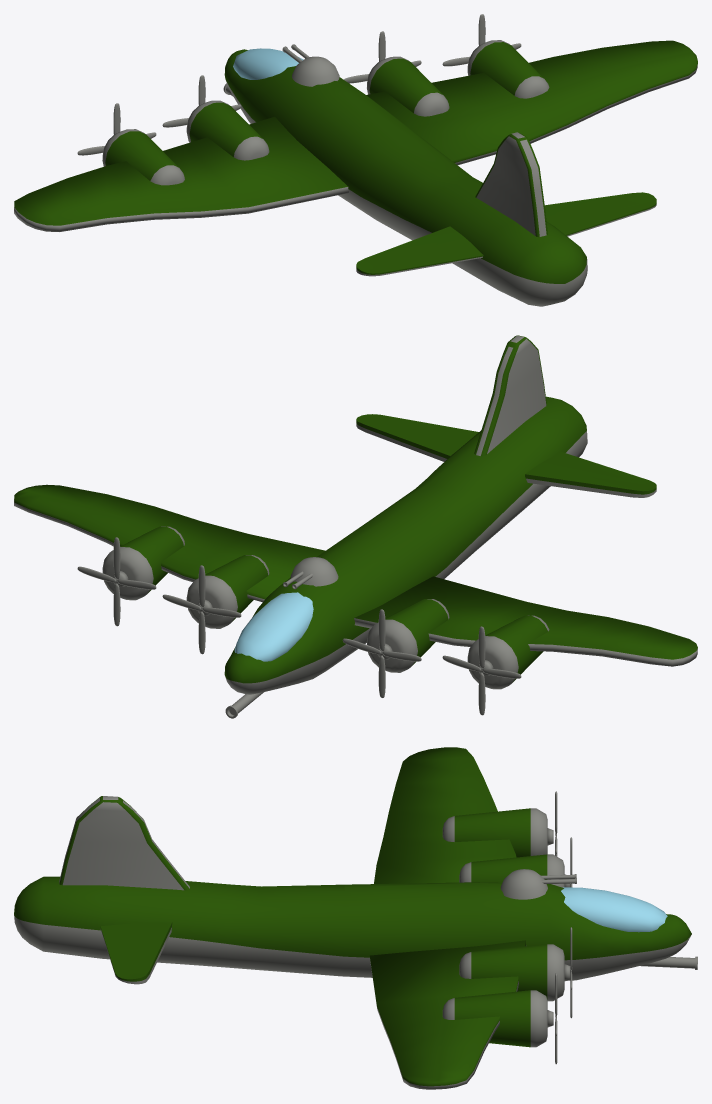
File: HeroplaneOld - Copy.fbx
The picture shows the model from 3 angles, top to bottom: view 1: azimuth 30°, elevation 25°; view 2: azimuth 150°, elevation 25°; view 3: azimuth 270°, elevation 25°; orthographic projection. The views are drawn at different scales.
Parts seen in each view (by area): view 1: Cylinder.012; view 2: Cylinder.012; view 3: Cylinder.012.
Part boxes in pixels (x1,y1,x2,y2): Cylinder.012: (14, 14, 697, 306); Cylinder.012: (14, 335, 697, 718); Cylinder.012: (14, 747, 697, 1089).
Bounding box in the file's own units: 594 × 149 × 513.
